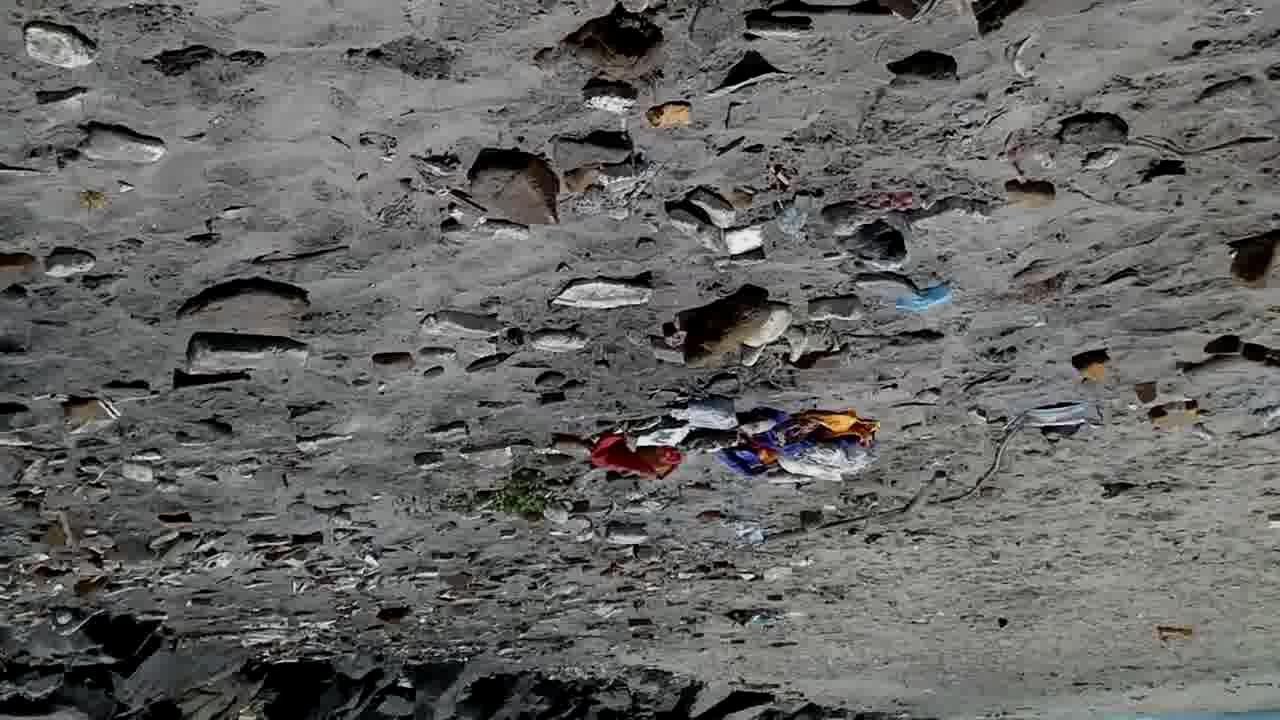large collection of objects: (1, 476, 226, 623), (228, 610, 358, 665), (176, 274, 312, 324), (666, 185, 740, 251)
obj: (592, 398, 884, 485), (417, 304, 586, 352), (924, 422, 1014, 510), (464, 152, 560, 226), (826, 202, 910, 267), (8, 20, 103, 72), (180, 338, 308, 374), (756, 513, 886, 546), (468, 465, 550, 517), (861, 276, 955, 318), (880, 472, 948, 526), (552, 279, 652, 310), (1011, 397, 1104, 428), (698, 512, 772, 548), (739, 13, 816, 39), (1146, 402, 1202, 434), (645, 101, 693, 133), (1154, 626, 1193, 646), (604, 531, 641, 546)
sand/background: (1, 571, 916, 719)
